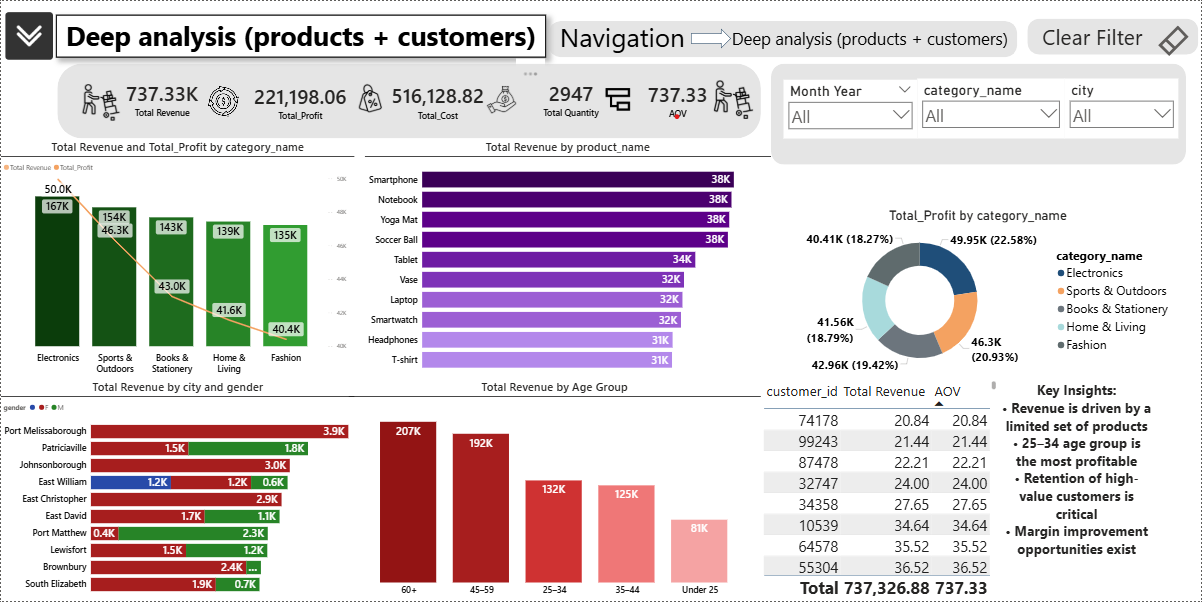

Layout of this report page (visuals, bound fields, positions):
{"tool":"powerbi","page":{"name":"Deep analysis (products + customers)","canvas":[2400,1200],"ordinal":1},"visuals":[{"type":"textbox","box":[110,27.5,980,85],"z":0},{"type":"image","box":[0,17.5,112.5,105],"z":1000},{"type":"clusteredBarChart","fields":{"Category":["online_retail_data.product_name"],"Y":["online_retail_data.Total Revenue"]},"box":[727.5,275,812.5,480],"z":2000},{"type":"donutChart","fields":{"Category":["online_retail_data.category_name"],"Y":["online_retail_data.Total_Profit"]},"box":[1560,412.5,787.5,342.5],"z":3000},{"type":"shape","box":[112.5,125,1407.5,150],"z":4000},{"type":"image","box":[152,160.5,95,85],"z":5000},{"type":"image","box":[399.5,158,90,85],"z":6000},{"type":"card","fields":{"Values":["online_retail_data.Total Revenue"]},"box":[199.5,135.5,245,120],"z":7000},{"type":"image","box":[677.5,155.5,122.5,80],"z":8000},{"type":"card","fields":{"Values":["online_retail_data.Total_Profit"]},"box":[489.5,143,217.5,117.5],"z":9000},{"type":"image","box":[954.5,155.5,92.5,82.5],"z":10000},{"type":"image","box":[1197,163,72.5,67.5],"z":11000},{"type":"card","fields":{"Values":["Sum(online_retail_data.quantity)"]},"box":[1007,135.5,265,120],"z":12000},{"type":"card","fields":{"Values":["online_retail_data.AOV"]},"box":[1209.5,138,287.5,120],"z":13000},{"type":"shape","box":[2052.6,35,342.5,72.5],"z":14000},{"type":"image","box":[1414.5,153,100,90],"z":15000},{"type":"shape","box":[1095,40,937.5,72.5],"z":16000},{"type":"actionButton","title":"Product & Cost Analysis","box":[1450,22.5,575,102.5],"z":17000},{"type":"actionButton","box":[1100,32.5,285,77.5],"z":18000},{"type":"shape","box":[1380,55,80,40],"z":19000},{"type":"actionButton","box":[2310.1,45,85,70],"z":20000},{"type":"textbox","box":[2077.6,37.5,237.5,77.5],"z":21000},{"type":"lineClusteredColumnComboChart","fields":{"Category":["online_retail_data.category_name"],"Y":["online_retail_data.Total Revenue"],"Y2":["online_retail_data.Total_Profit"]},"box":[0,275,707.5,480],"z":22000},{"type":"clusteredColumnChart","fields":{"Category":["online_retail_data.Age Group"],"Y":["online_retail_data.Total Revenue"]},"box":[695,755,825,445],"z":23000},{"type":"barChart","fields":{"Series":["online_retail_data.gender"],"Category":["online_retail_data.city"],"Y":["online_retail_data.Total Revenue"]},"box":[0,755,707.5,445],"z":24000},{"type":"tableEx","fields":{"Values":["online_retail_data.customer_id","online_retail_data.Total Revenue","online_retail_data.AOV"]},"box":[1520,755,475,445],"z":25000},{"type":"textbox","box":[1995,755,312.5,445],"z":26000},{"type":"shape","box":[1540,125,830,202.5],"z":27000},{"type":"slicer","fields":{"Values":["online_retail_data.Month Year"]},"box":[1565,157.5,267.5,117.5],"z":28000},{"type":"slicer","fields":{"Values":["online_retail_data.category_name"]},"box":[1832.5,155,295,120],"z":29000},{"type":"slicer","fields":{"Values":["online_retail_data.city"]},"box":[2127.5,155,227.5,120],"z":30000},{"type":"card","fields":{"Values":["online_retail_data.Total_Cost"]},"box":[772.5,140,202.5,120],"z":31000}]}

Visuals, with their boxes in screenshot pixels (x1, y1, x2, y2), scaled from the page's 2400x1200 canvas onto the 1202x602 screenshot:
textbox: 55 14 546 56
image: 0 9 56 61
clusteredBarChart - online_retail_data.product_name x online_retail_data.Total Revenue: 364 138 771 379
donutChart - online_retail_data.category_name x online_retail_data.Total_Profit: 781 207 1176 379
shape: 56 63 761 138
image: 76 81 124 123
image: 200 79 245 122
card - online_retail_data.Total Revenue: 100 68 223 128
image: 339 78 401 118
card - online_retail_data.Total_Profit: 245 72 354 131
image: 478 78 524 119
image: 599 82 636 116
card - Sum(online_retail_data.quantity): 504 68 637 128
card - online_retail_data.AOV: 606 69 750 129
shape: 1028 18 1200 54
image: 708 77 759 122
shape: 548 20 1018 56
"Product & Cost Analysis" actionButton: 726 11 1014 63
actionButton: 551 16 694 55
shape: 691 28 731 48
actionButton: 1157 23 1200 58
textbox: 1041 19 1159 58
lineClusteredColumnComboChart - online_retail_data.category_name x online_retail_data.Total Revenue: 0 138 354 379
clusteredColumnChart - online_retail_data.Age Group x online_retail_data.Total Revenue: 348 379 761 601
barChart - online_retail_data.gender x online_retail_data.city: 0 379 354 601
tableEx - online_retail_data.customer_id x online_retail_data.Total Revenue: 761 379 999 601
textbox: 999 379 1156 601
shape: 771 63 1187 164
slicer - online_retail_data.Month Year: 784 79 918 138
slicer - online_retail_data.category_name: 918 78 1066 138
slicer - online_retail_data.city: 1066 78 1179 138
card - online_retail_data.Total_Cost: 387 70 488 130
